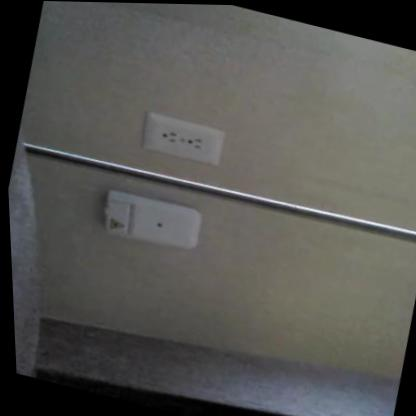OUTLET: (138, 110, 227, 168)
